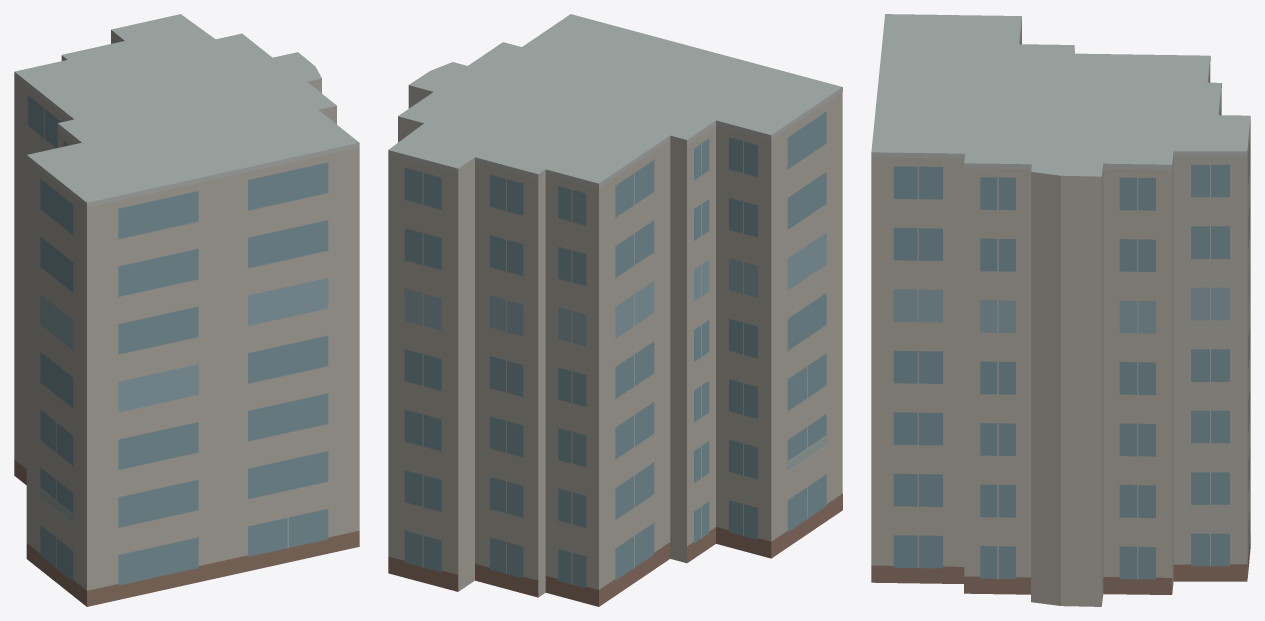
File: survey-upis-32723244.glb
3 views of the same model, side by side, from view 1: azimuth 30°, elevation 25°; view 2: azimuth 150°, elevation 25°; view 3: azimuth 270°, elevation 25° (orthographic). The views are drawn at different scales.
Parts seen in each view (by area): view 1: survey-upis-32723244.tmp; view 2: survey-upis-32723244.tmp; view 3: survey-upis-32723244.tmp.
Boxes of the visible parts, x1=… form: survey-upis-32723244.tmp: x1=14, y1=14, x2=359, y2=606; survey-upis-32723244.tmp: x1=388, y1=14, x2=842, y2=606; survey-upis-32723244.tmp: x1=871, y1=14, x2=1250, y2=606.
Bounding box in the file's own units: 16.86 × 20.8 × 16.63.
